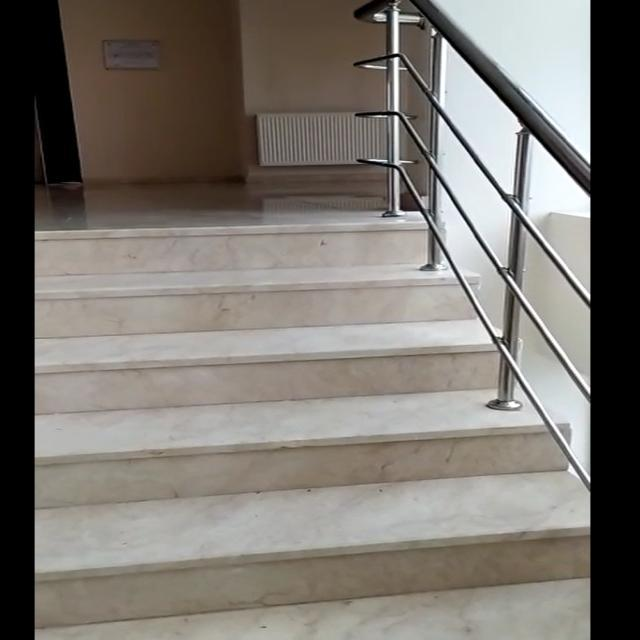stair: (33, 221, 620, 640)
